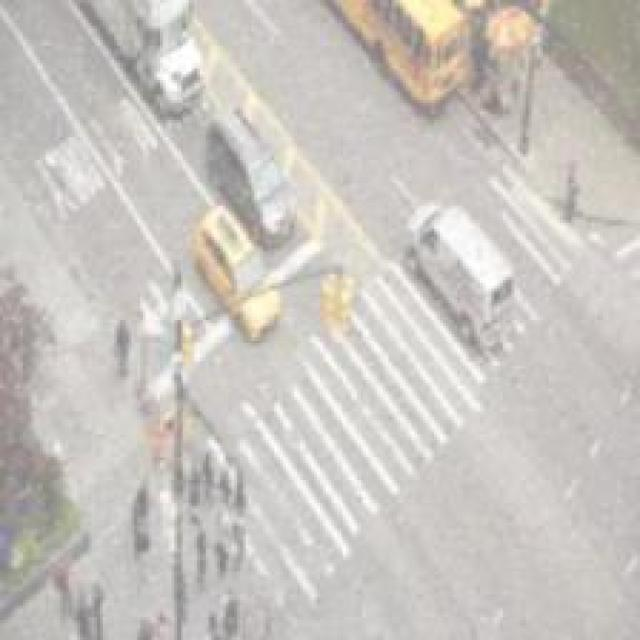zebra: (154, 152, 590, 628)
